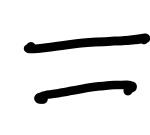eqv: (24, 33, 150, 104)
